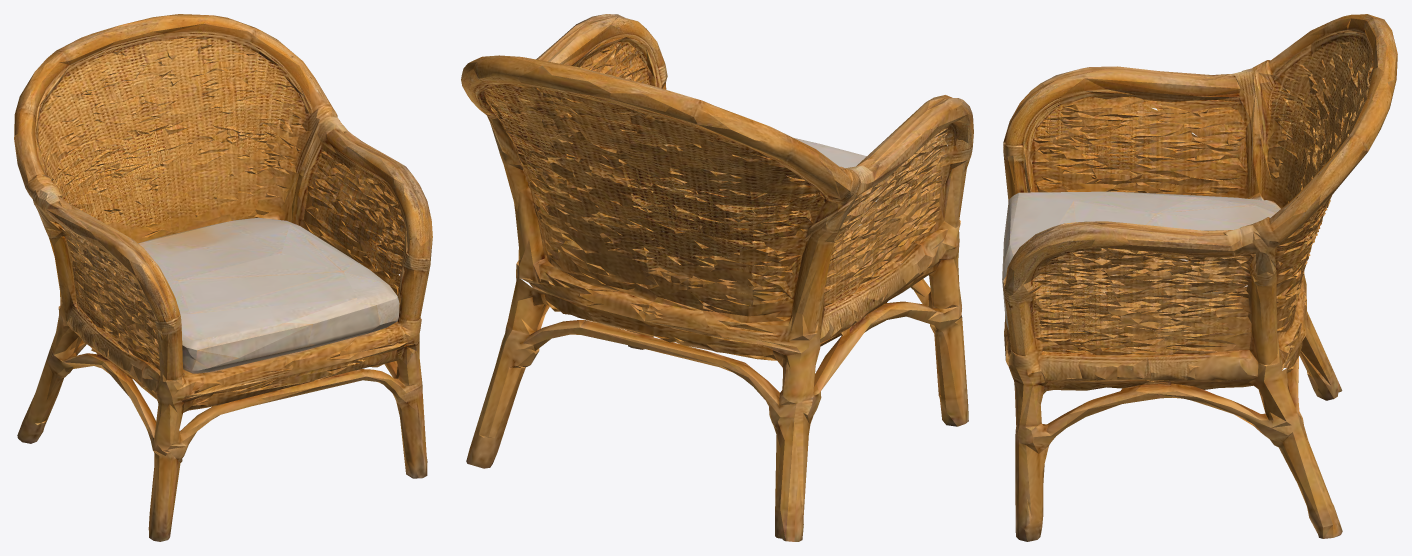
The model's file is w51rattan.glb.
3 renders of one model, left to right at view 1: azimuth 30°, elevation 25°; view 2: azimuth 150°, elevation 25°; view 3: azimuth 270°, elevation 25°, orthographic. The views are drawn at different scales.
Visible parts, largest first — view 1: output_unwrapped; view 2: output_unwrapped; view 3: output_unwrapped.
Part boxes in pixels (box(x1,y1,x2,y2)): output_unwrapped: box(14, 14, 432, 541); output_unwrapped: box(461, 14, 973, 541); output_unwrapped: box(1002, 14, 1397, 541).
Size of the model in its own units: 0.68 by 0.7783 by 0.672.
Materials: 1 (1 with a texture image).
